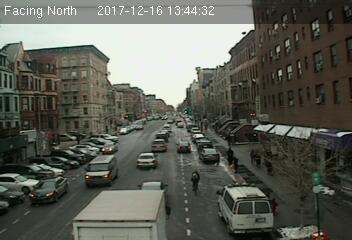bicycle: (189, 168, 200, 197)
car: (28, 175, 67, 200), (199, 147, 220, 162), (137, 152, 156, 166), (176, 141, 191, 153), (152, 140, 166, 151)
pedestrian: (231, 153, 241, 173), (253, 150, 261, 169)
police: (216, 181, 277, 234)
truck: (86, 155, 116, 186)
